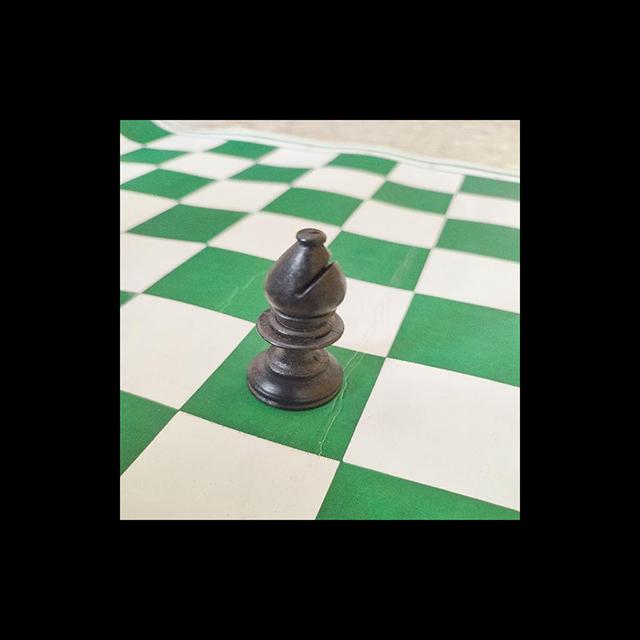black-bishop: (247, 228, 346, 413)
